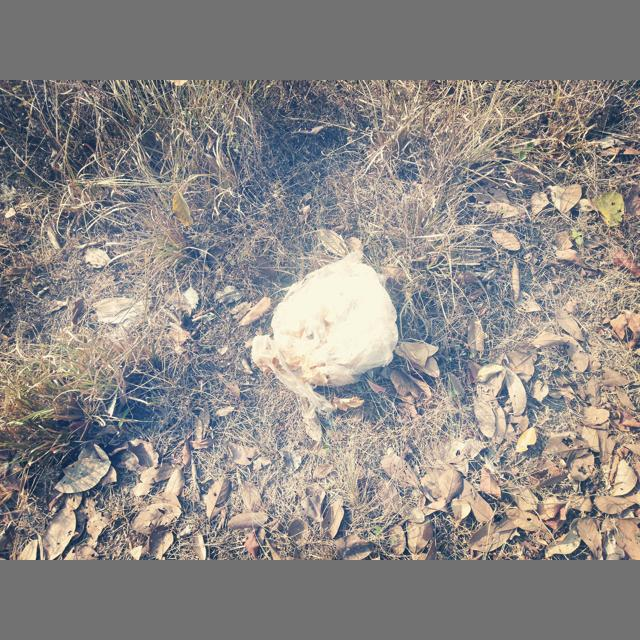litter: (251, 252, 399, 419)
